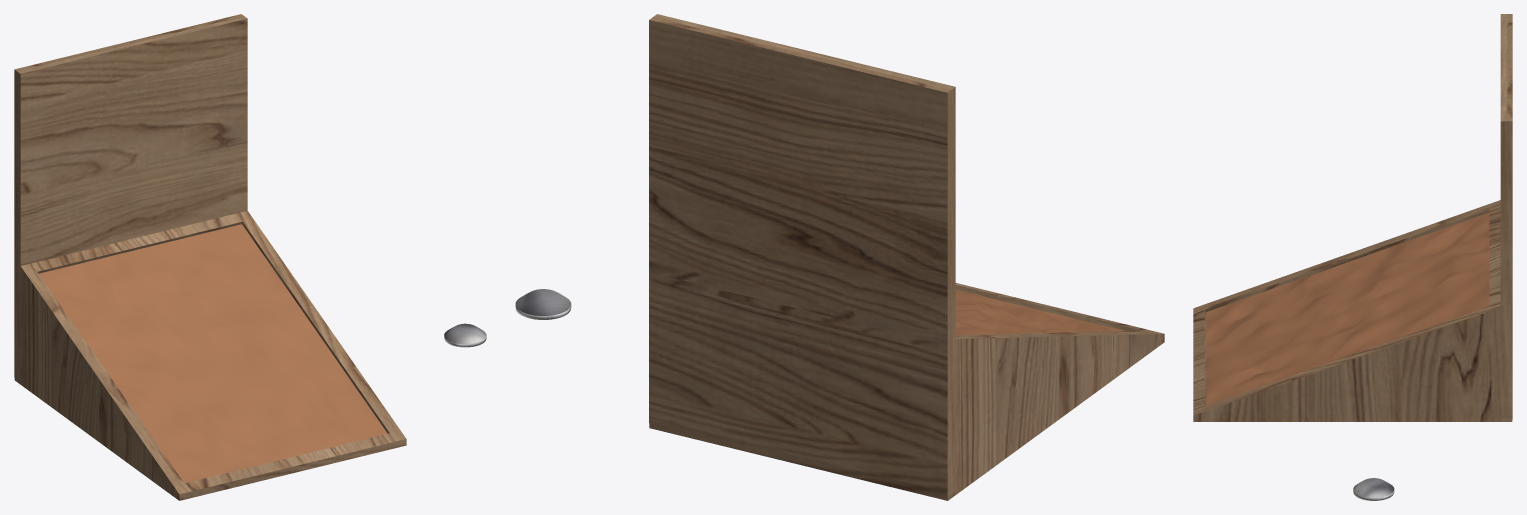
Rendered from TEJO.fbx.
The picture shows the model from 3 angles, left to right: view 1: azimuth 30°, elevation 25°; view 2: azimuth 150°, elevation 25°; view 3: azimuth 270°, elevation 25°; orthographic projection. The views are drawn at different scales.
Parts seen in each view (by area): view 1: Plano, Cilindro; view 2: Plano, Cilindro; view 3: Plano, Cilindro.
Boxes of the visible parts, <box> form: Plano: <box>14,14,406,500</box>; Cilindro: <box>444,323,486,347</box>; Plano: <box>649,14,1164,500</box>; Cilindro: <box>515,289,571,319</box>; Plano: <box>1193,14,1512,421</box>; Cilindro: <box>1353,478,1394,500</box>.
Size of the model in its own units: 391 by 296 by 281.
